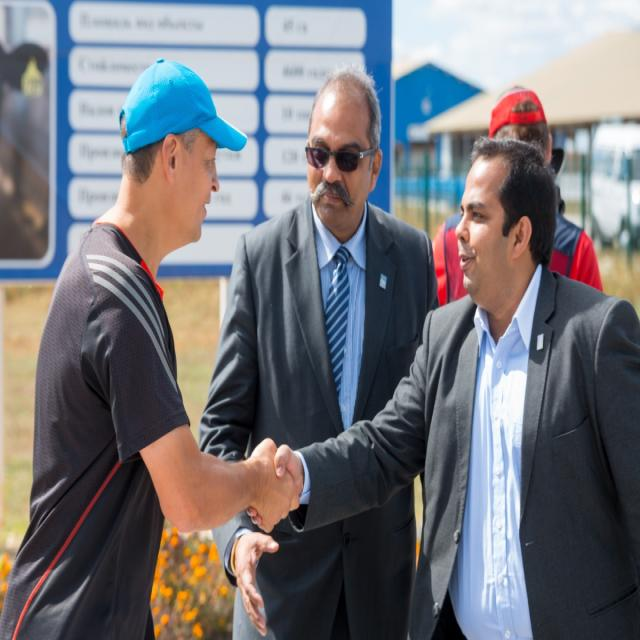body: (249, 132, 640, 639), (0, 55, 305, 639), (198, 63, 440, 640), (425, 138, 608, 634), (552, 139, 568, 220)
